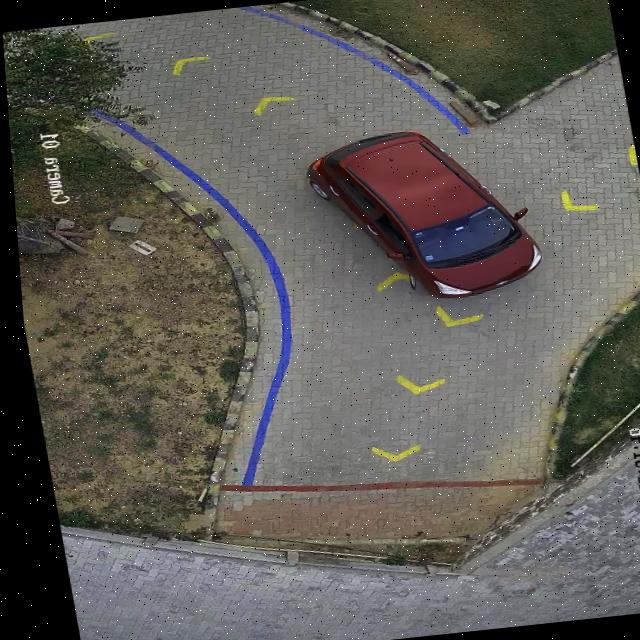car: (304, 131, 540, 298)
